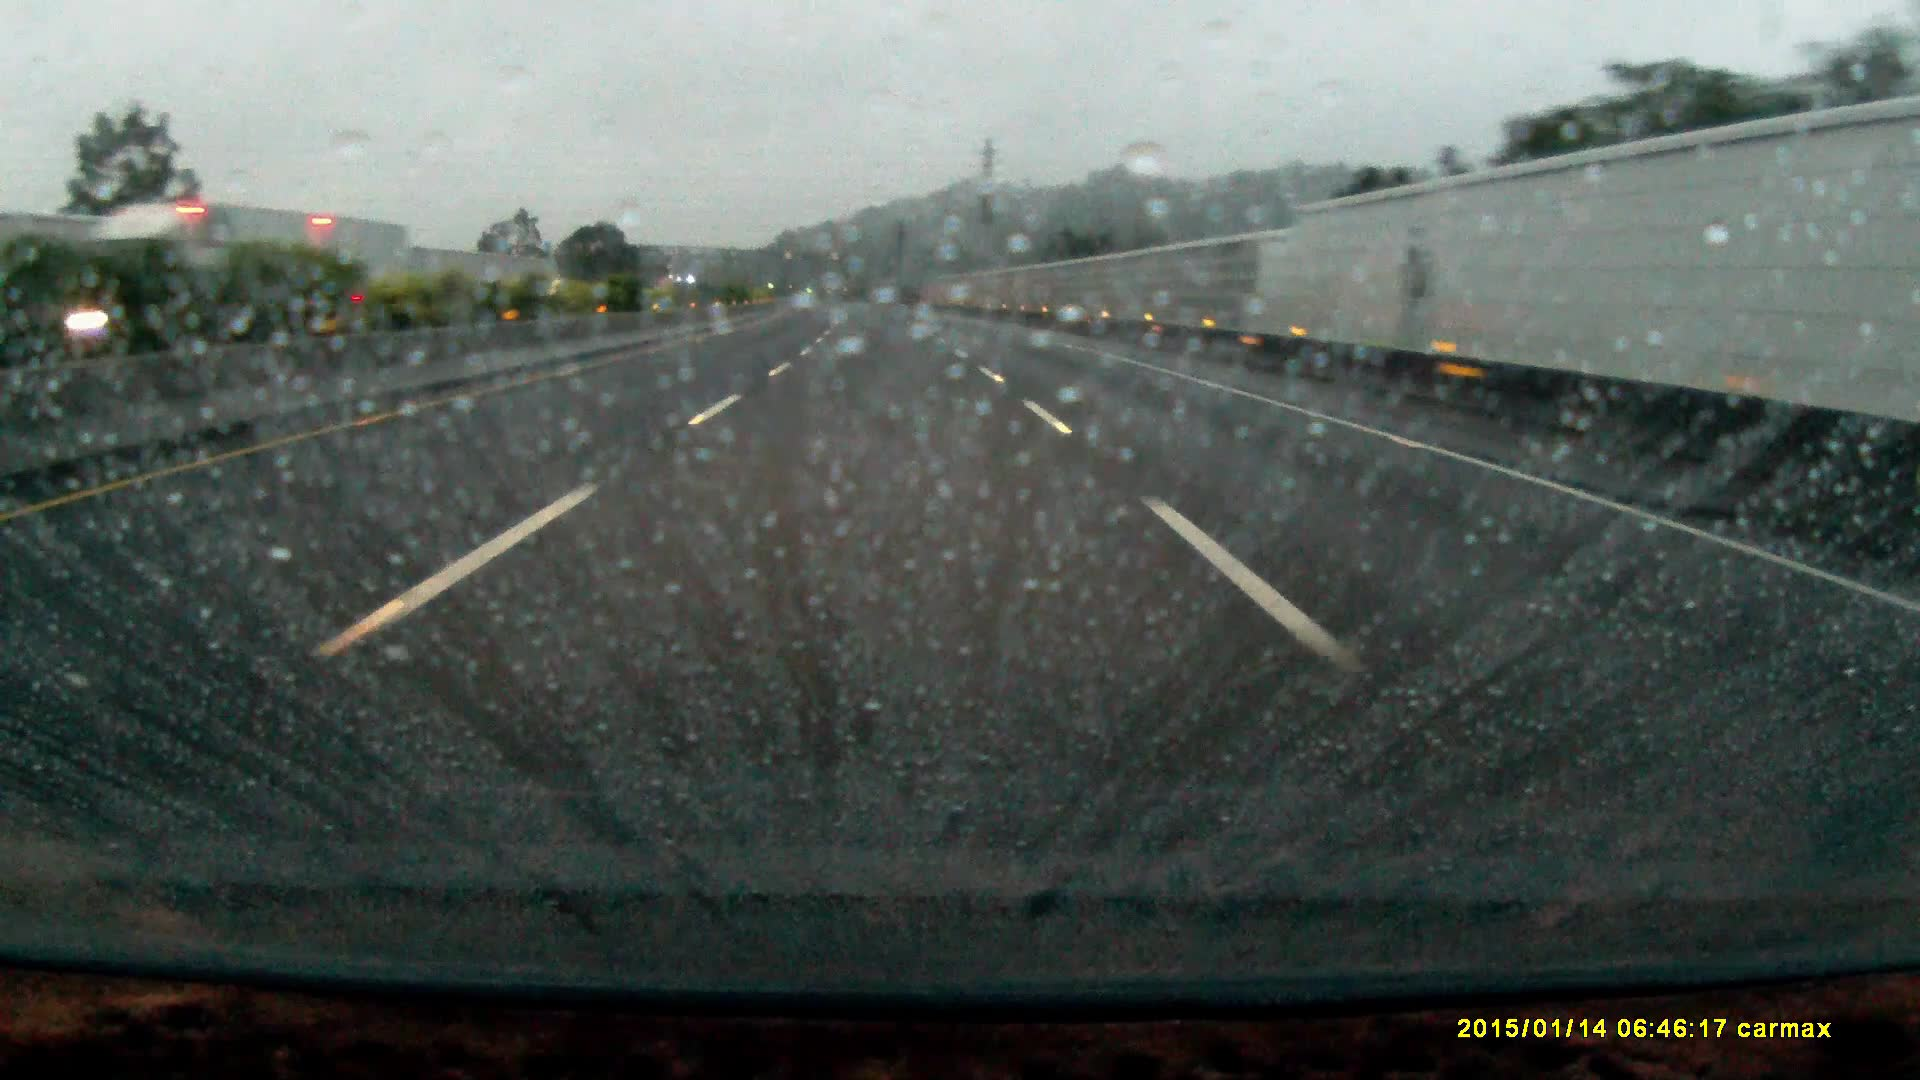vehicle: (102, 210, 396, 335)
